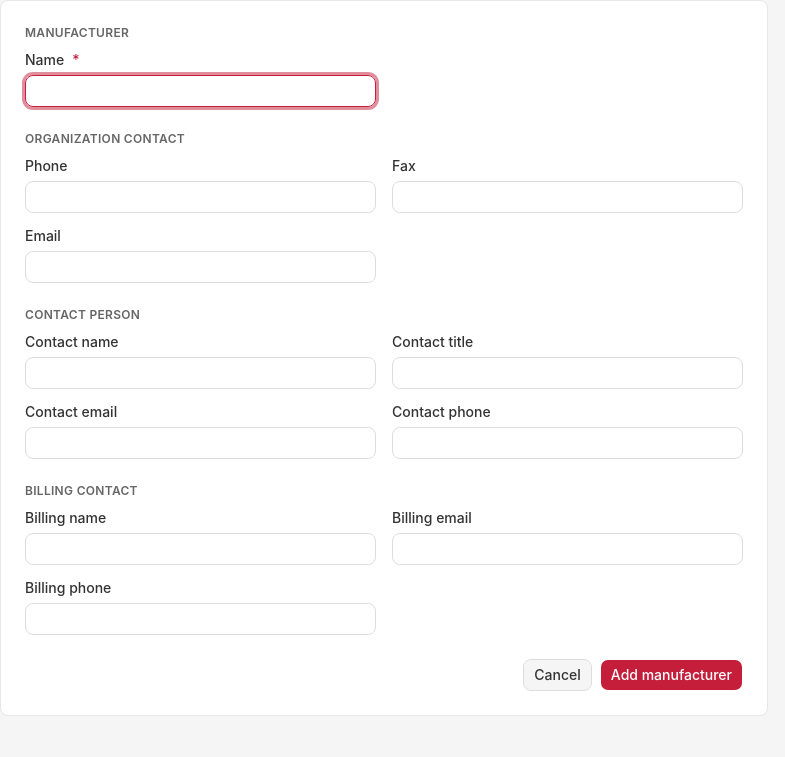
the form › sends nothing when the name is blank
This screenshot has width=785, height=757.
Step 1. Click the button "Add manufacturer" → click(671, 675), box [600,659,743,691]
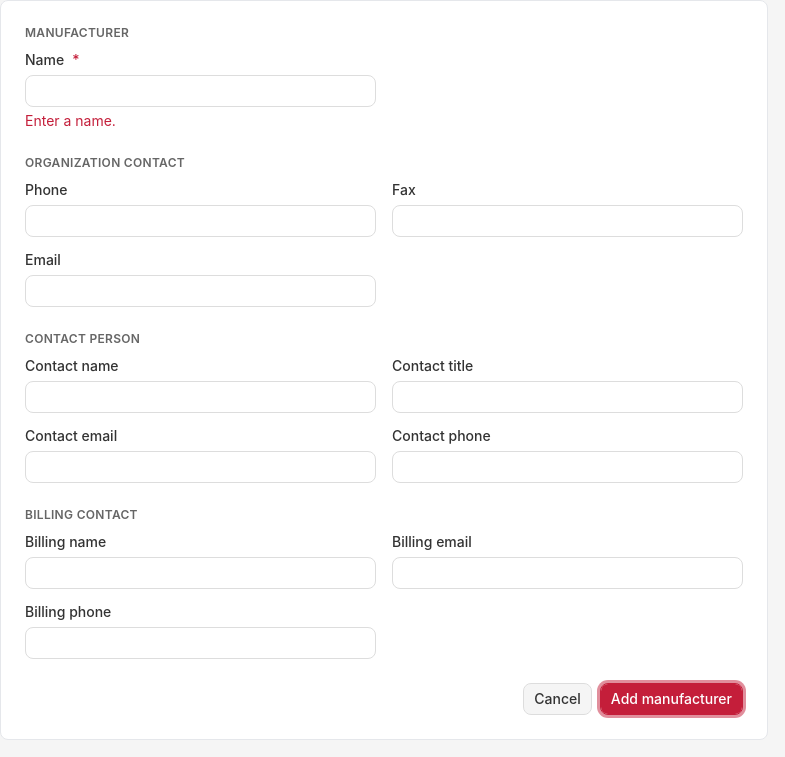
Check: the text "Enter a name." is shown, box [25,112,116,129]
